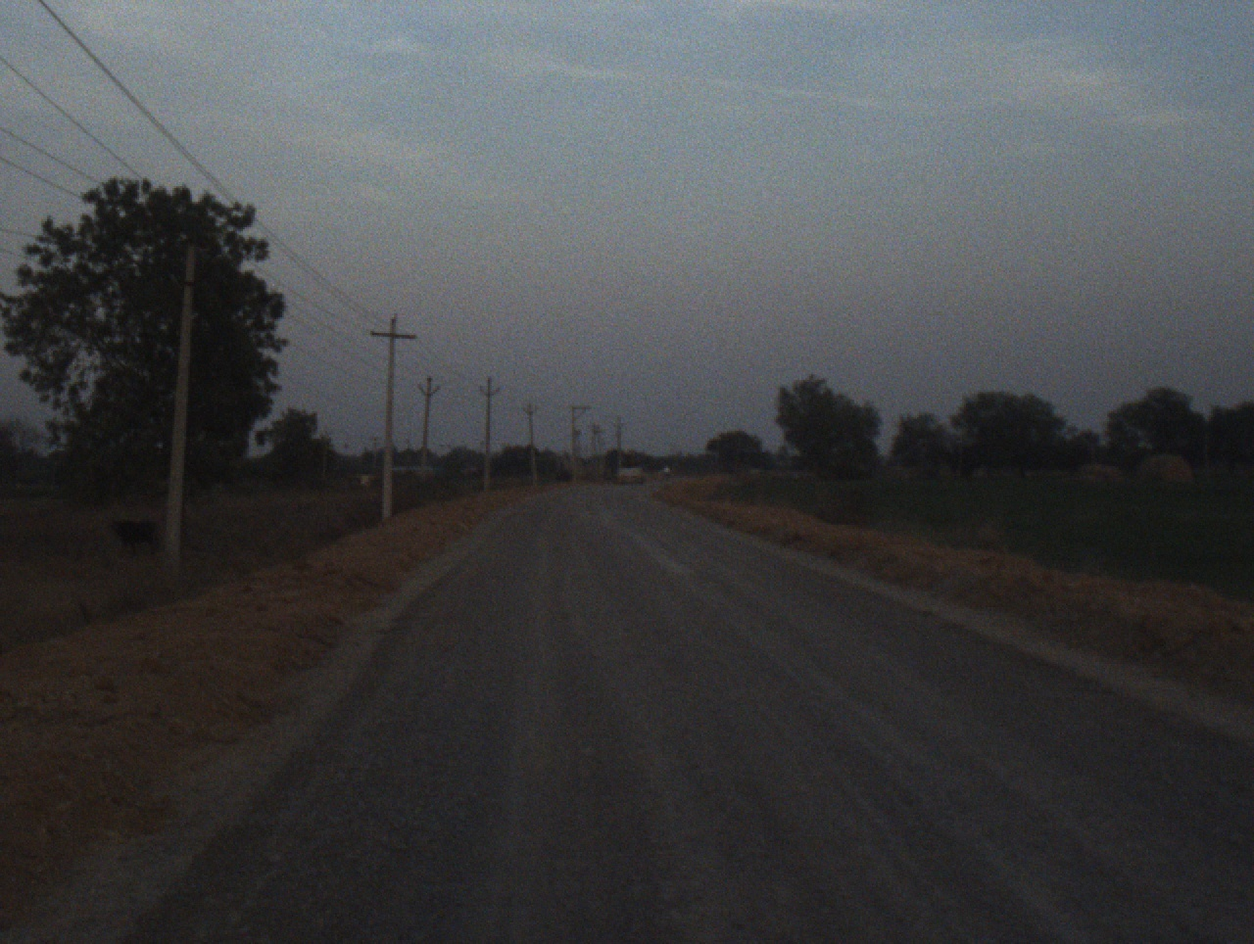animal: (93, 506, 165, 565)
vehicle fallback: (611, 448, 648, 485)
